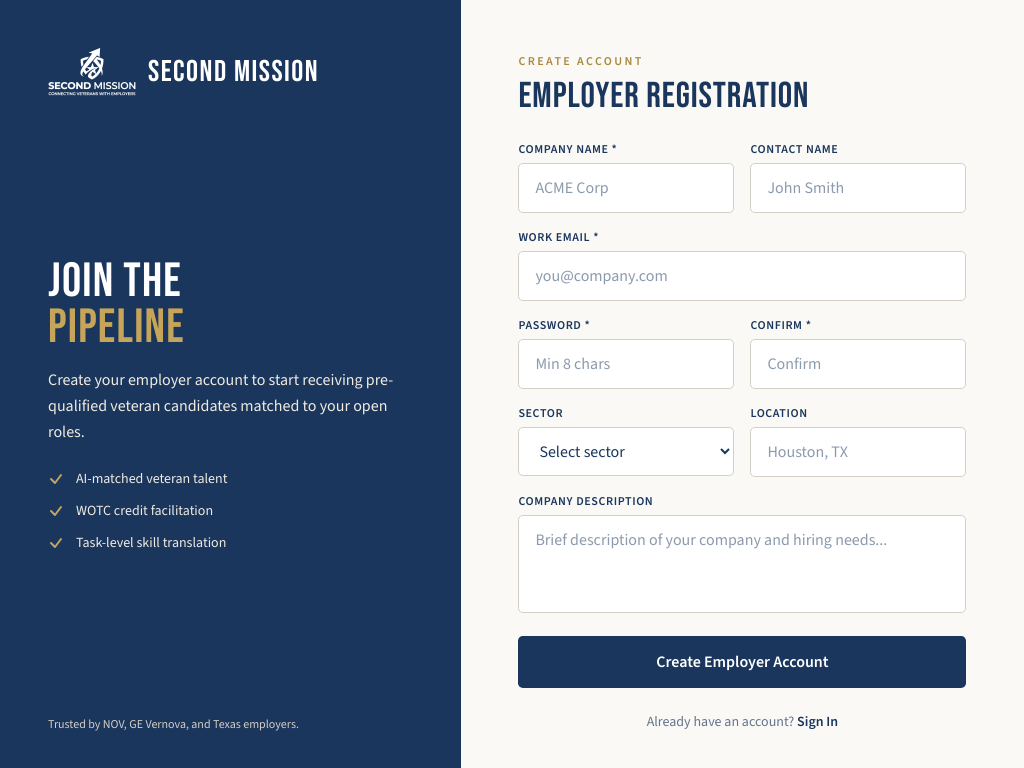
Test: EmployerRegisterPage › validates minimum password length
This screenshot has width=1024, height=768.
In the field with placeholder "ACME Corp": {"x": 626, "y": 188} [518,163,734,213], type "Test Corp"
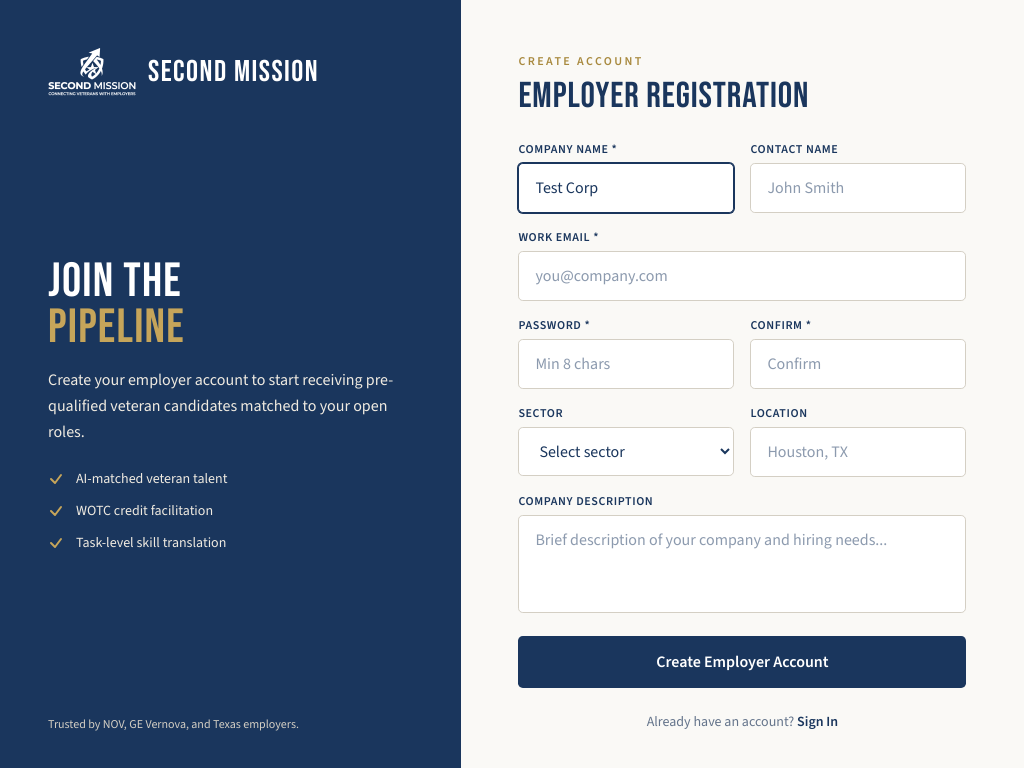
In the field with placeholder "you@company.com": {"x": 742, "y": 276} [518,251,966,301], type "x@test.com"
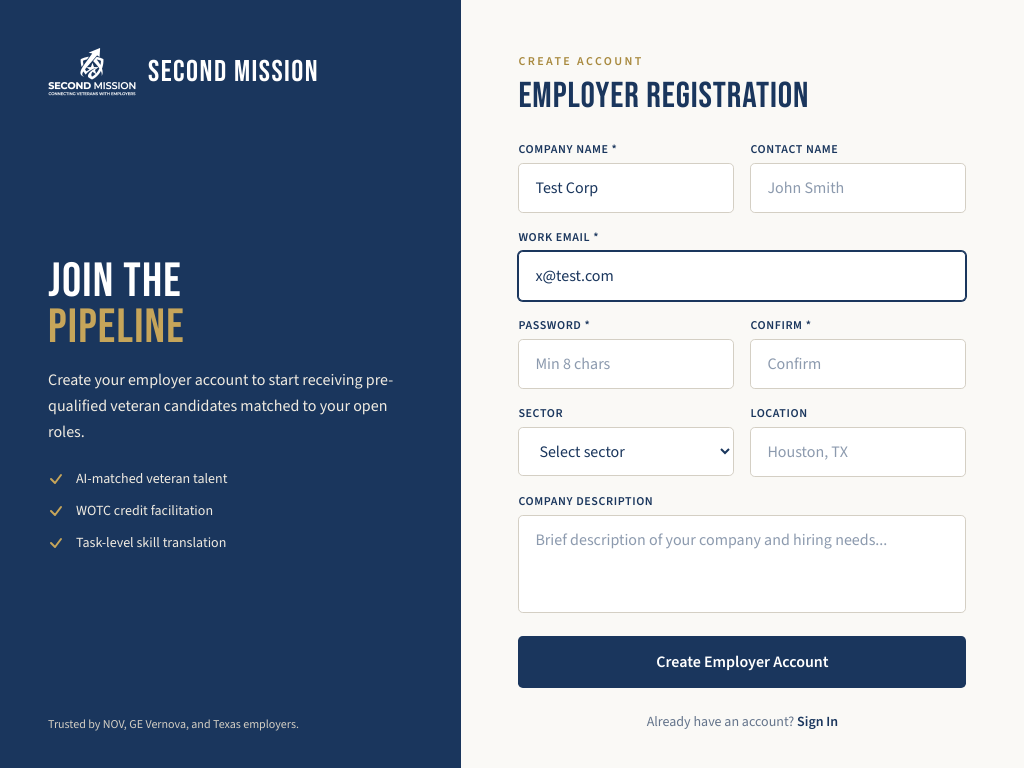
In the password field with placeholder "Min 8 chars": {"x": 626, "y": 364} [518,339,734,389], type "short"
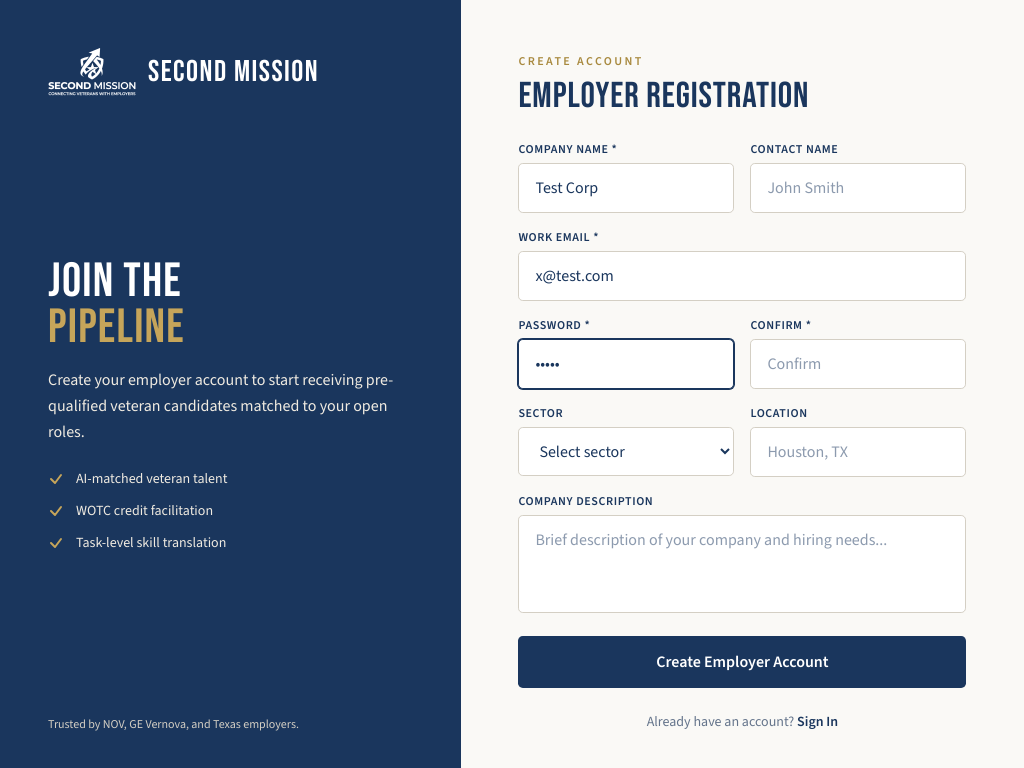
In the password field with placeholder "Confirm": {"x": 858, "y": 364} [750,339,966,389], type "short"
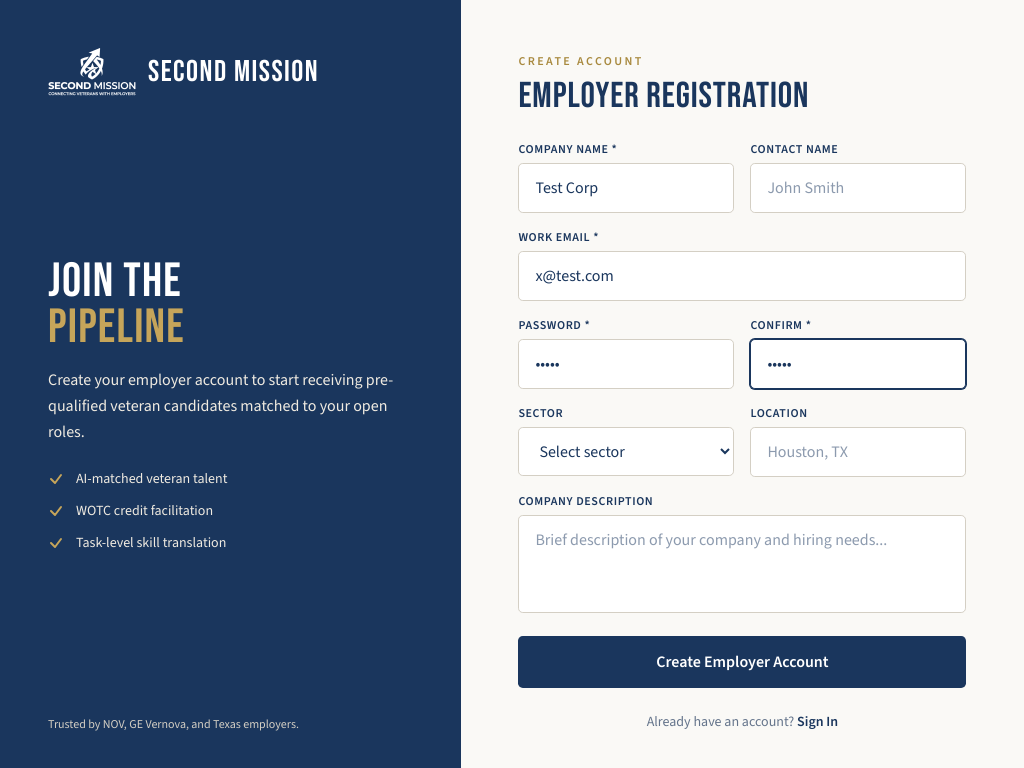
Click the button "Create Employer Account": {"x": 742, "y": 662} [518,636,966,688]
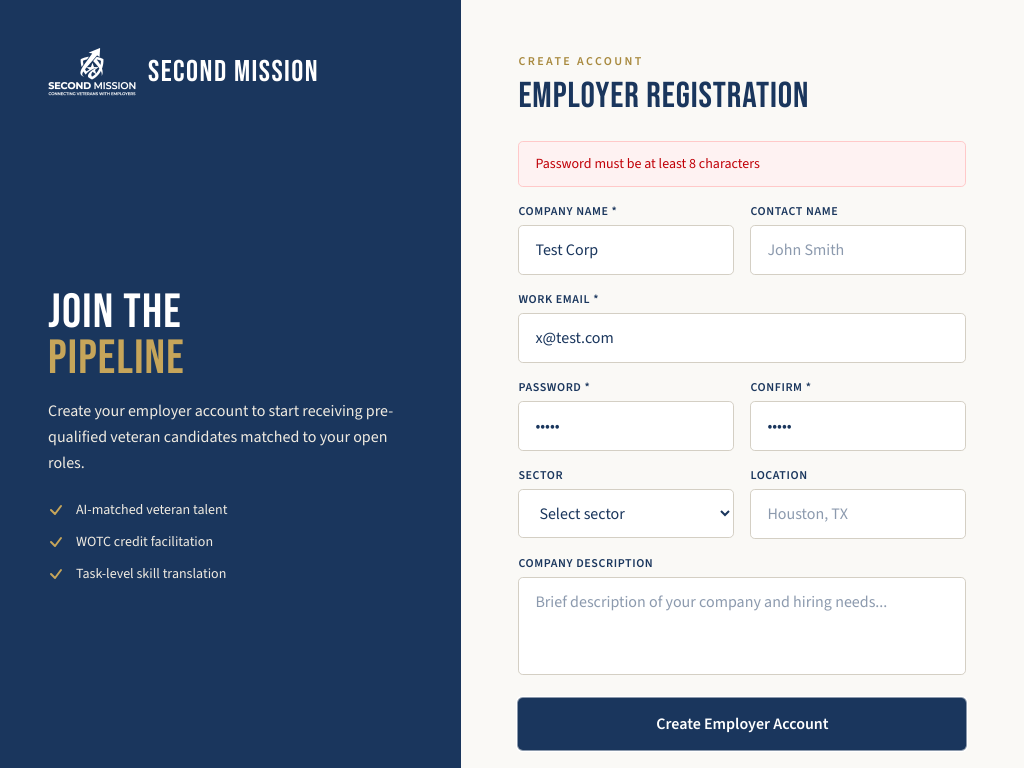
Expected: the text "Password must be at least 8 characters" is shown, [518,141,966,187]
